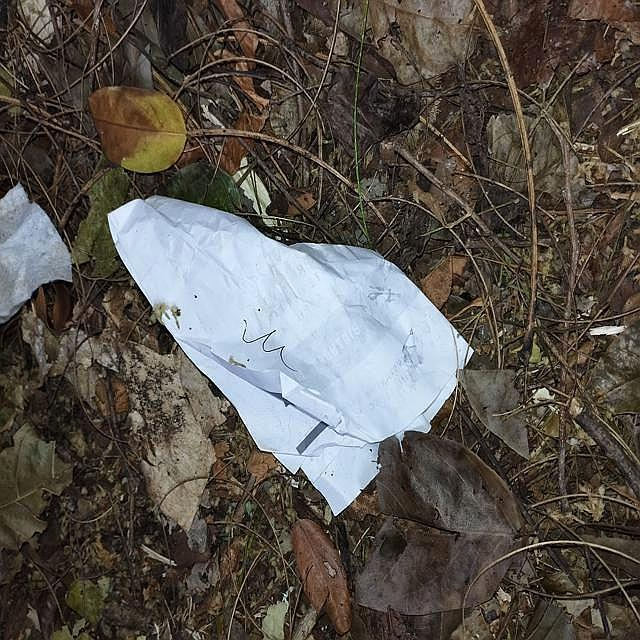Biodegradable: (81, 163, 488, 532), (1, 183, 71, 327)
